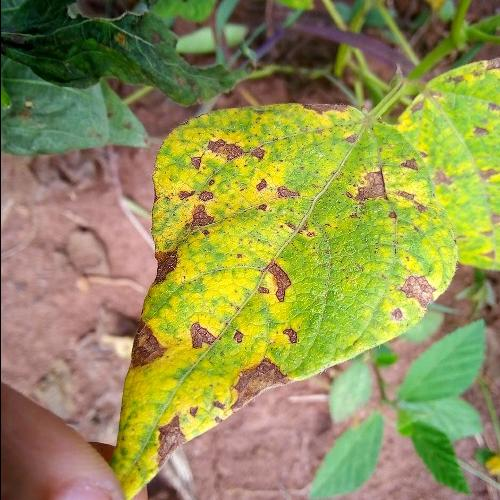hawar: (107, 99, 456, 500)
